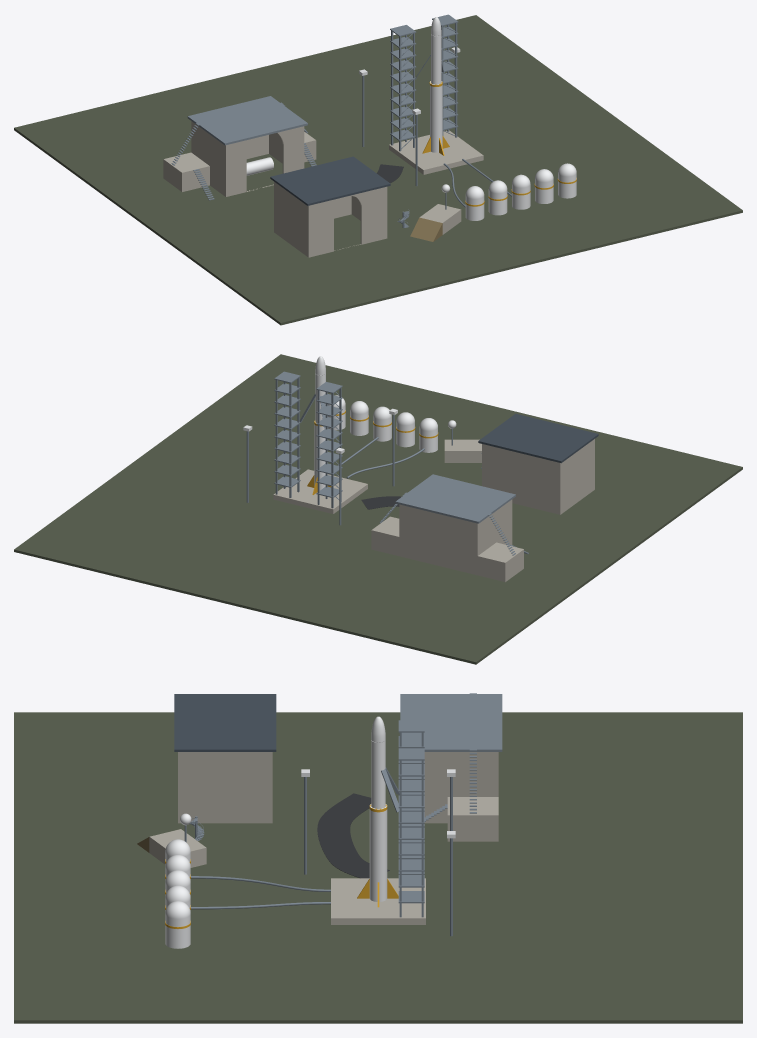
Rendered from spaceport_edit.L0.glb.
The picture shows the model from 3 angles, top to bottom: view 1: azimuth 30°, elevation 25°; view 2: azimuth 150°, elevation 25°; view 3: azimuth 270°, elevation 25°; orthographic projection. The views are drawn at different scales.
Visible parts, largest first — view 1: ground, hangar2.body, hangar.body, hangar2.roof, hangar.roof, pad, wings.mirrored.annex, rocket.stage1, bunker, berm, rocket.stage2; view 2: ground, hangar2.body, hangar.body, hangar2.roof, hangar.roof, pad, wings.mirrored.annex, wings.annex, bunker; view 3: ground, hangar2.body, hangar2.roof, hangar.roof, hangar.body, pad, road, wings.annex, rocket.stage1, bunker, rocket.stage2, tanks.4.tank.
Part boxes in pixels (left/top/right/bottom): ground: left=14, top=15, right=742, bottom=325; hangar2.body: left=274, top=181, right=387, bottom=257; hangar.body: left=191, top=121, right=304, bottom=196; hangar2.roof: left=270, top=156, right=390, bottom=205; hangar.roof: left=187, top=96, right=307, bottom=145; pad: left=389, top=130, right=483, bottom=174; wings.mirrored.annex: left=163, top=152, right=209, bottom=191; rocket.stage1: left=430, top=81, right=442, bottom=152; bunker: left=419, top=204, right=461, bottom=234; berm: left=410, top=217, right=442, bottom=241; rocket.stage2: left=431, top=34, right=441, bottom=84; ground: left=14, top=354, right=742, bottom=664; hangar2.body: left=482, top=439, right=594, bottom=514; hangar.body: left=399, top=499, right=512, bottom=575; hangar2.roof: left=478, top=413, right=598, bottom=463; hangar.roof: left=395, top=474, right=515, bottom=523; pad: left=273, top=469, right=367, bottom=513; wings.mirrored.annex: left=477, top=542, right=523, bottom=582; wings.annex: left=371, top=516, right=399, bottom=555; bunker: left=444, top=439, right=481, bottom=462; ground: left=14, top=712, right=742, bottom=1023; hangar2.body: left=178, top=752, right=272, bottom=823; hangar2.roof: left=174, top=694, right=276, bottom=751; hangar.roof: left=400, top=694, right=502, bottom=751; hangar.body: left=424, top=752, right=498, bottom=823; pad: left=331, top=878, right=425, bottom=924; road: left=317, top=793, right=389, bottom=878; wings.annex: left=447, top=797, right=498, bottom=841; rocket.stage1: left=369, top=804, right=387, bottom=901; bunker: left=149, top=829, right=206, bottom=867; rocket.stage2: left=371, top=741, right=385, bottom=808; tanks.4.tank: left=165, top=915, right=190, bottom=948.
Size of the model in its own units: 200 by 58 by 200.
